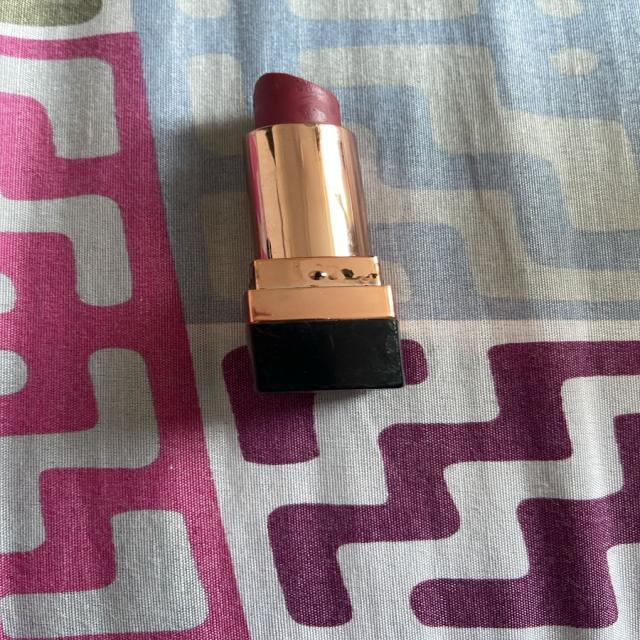lip stick: (193, 50, 465, 418)
